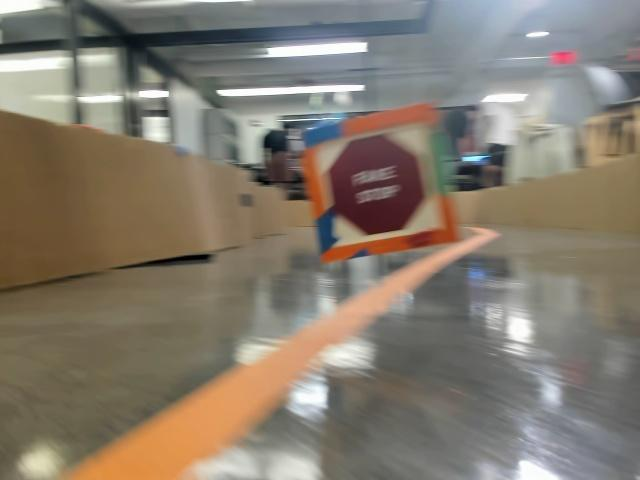Fake Stop: (323, 144, 413, 241)
